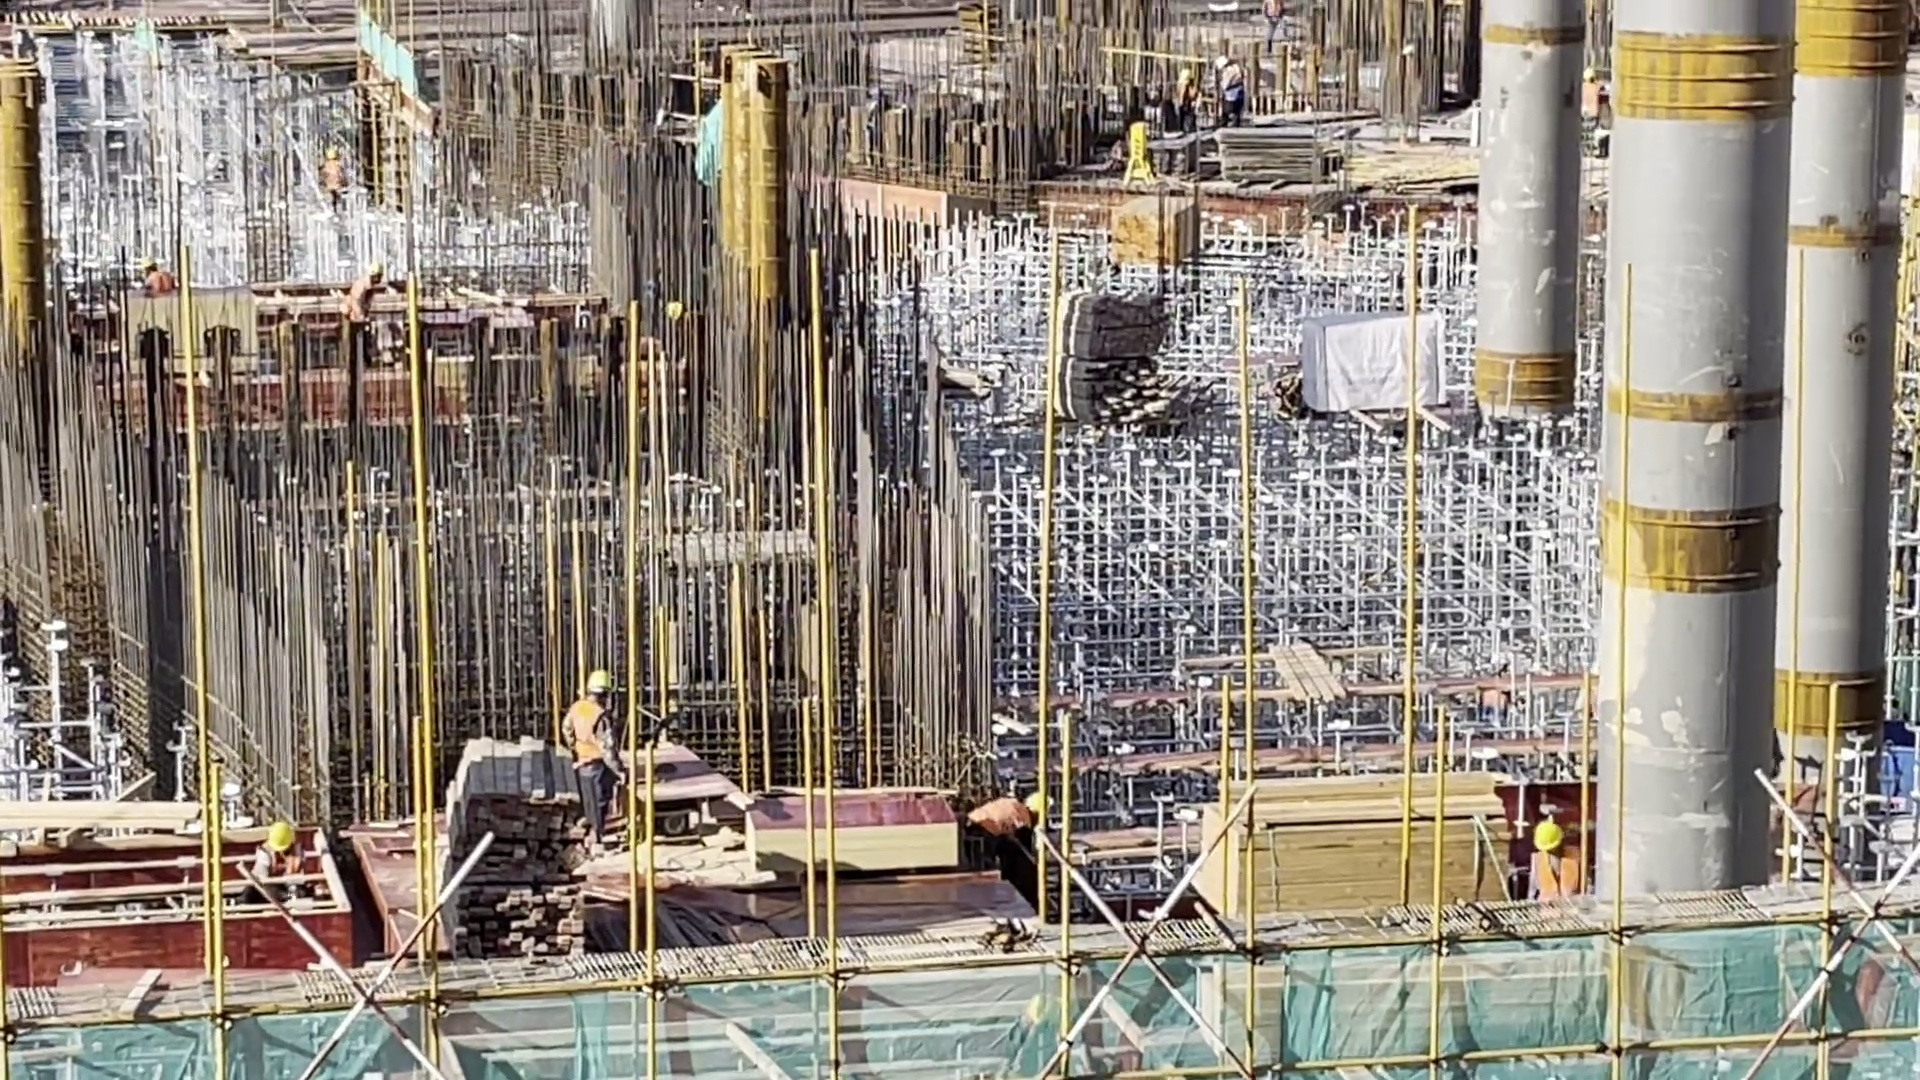helmet: (575, 663, 617, 700), (1532, 815, 1567, 858), (260, 820, 299, 854), (1026, 782, 1054, 824)
person: (549, 656, 638, 867), (963, 768, 1062, 882), (1518, 811, 1597, 920), (248, 809, 311, 893)
vest: (1529, 845, 1586, 902), (967, 797, 1026, 840), (570, 699, 604, 766)
wood: (1180, 723, 1532, 937), (438, 700, 612, 963)
